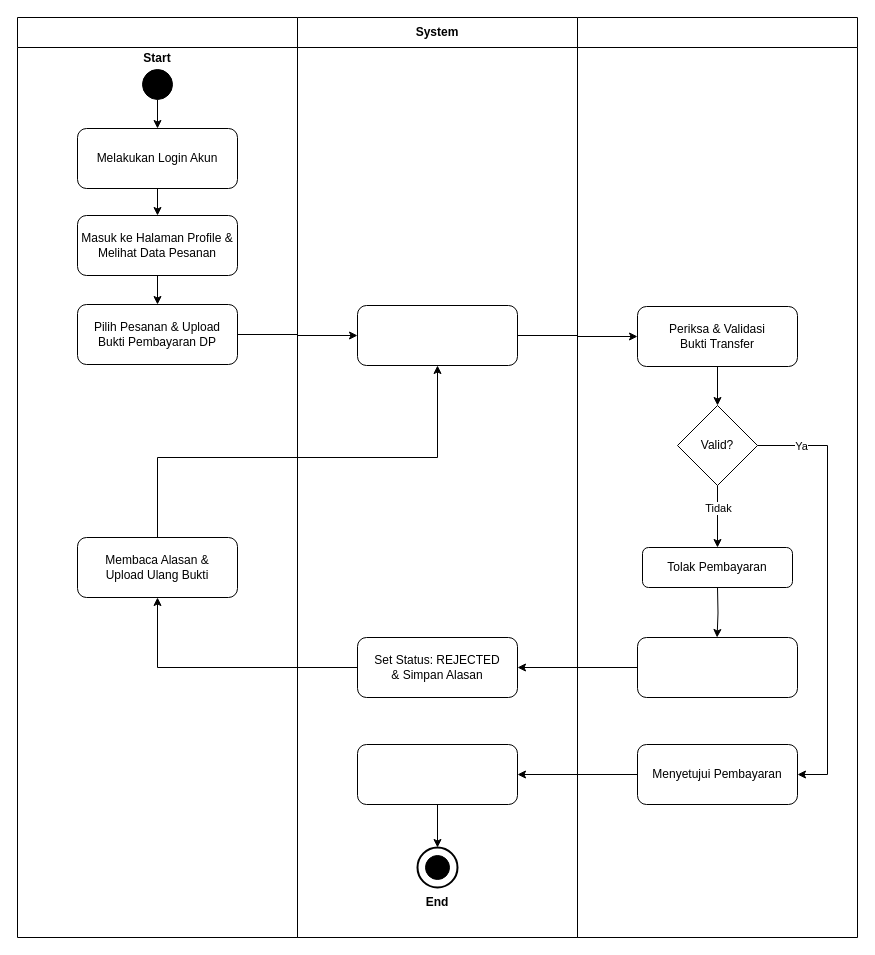
The diagram is 875 pixels wide and 955 high, and some of its shapes have lost their labels. The shapes that lost their labels are listed below. From the top down, each one's box as (x1, y1, x2, y2) in pixels, then its label:
(356, 304, 518, 366): Simpan Bukti pembayaran DP
(16, 16, 298, 938): Customer
(576, 16, 858, 938): Admin
(636, 636, 798, 698): Input Alasan Penolakan
(356, 744, 518, 804): Set Status Pesanan: IN_PRODUCTION
